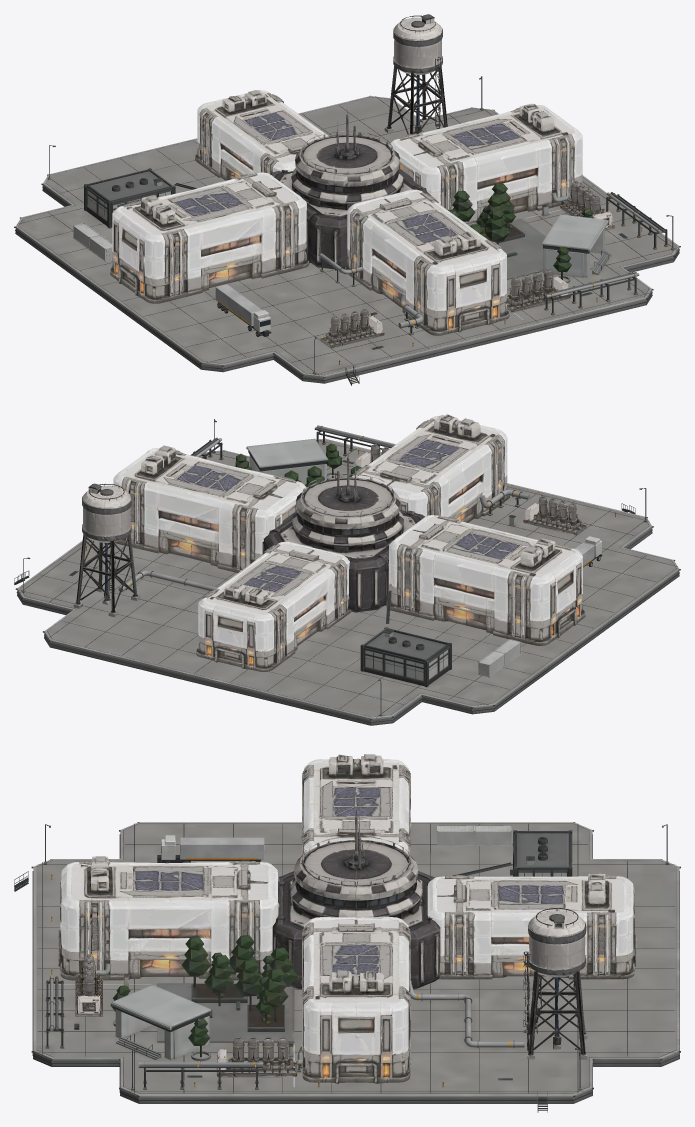
Rendered from infrastructure.lite.glb.
3 renders of one model, top to bottom at view 1: azimuth 30°, elevation 25°; view 2: azimuth 150°, elevation 25°; view 3: azimuth 270°, elevation 25°, orthographic. The views are drawn at different scales.
Visible parts, largest first — view 1: parts_colony-adminWing, hull, parts_colony-hubDrum, parts_colony-waterTower, parts_colony-vesselSkid, parts_yard-truck, parts_container; view 2: parts_colony-adminWing, hull, parts_colony-hubDrum, parts_colony-waterTower, parts_colony-vesselSkid, parts_container, parts_yard-truck; view 3: hull, parts_colony-adminWing, parts_colony-hubDrum, parts_colony-waterTower, parts_colony-vesselSkid, parts_yard-truck, parts_container.
Part boxes in pixels (bbox=[...]): parts_colony-adminWing: bbox=[110, 90, 582, 335]; hull: bbox=[14, 76, 680, 385]; parts_colony-hubDrum: bbox=[270, 108, 431, 269]; parts_colony-waterTower: bbox=[384, 14, 447, 134]; parts_colony-vesselSkid: bbox=[320, 180, 614, 348]; parts_yard-truck: bbox=[215, 284, 271, 336]; parts_container: bbox=[73, 223, 112, 261]; parts_colony-adminWing: bbox=[113, 414, 585, 671]; hull: bbox=[14, 419, 680, 725]; parts_colony-hubDrum: bbox=[262, 452, 424, 612]; parts_colony-waterTower: bbox=[73, 483, 140, 617]; parts_colony-vesselSkid: bbox=[355, 444, 586, 535]; parts_container: bbox=[478, 639, 521, 677]; parts_yard-truck: bbox=[575, 536, 602, 567]; hull: bbox=[14, 822, 680, 1112]; parts_colony-adminWing: bbox=[58, 754, 636, 1083]; parts_colony-hubDrum: bbox=[272, 809, 440, 989]; parts_colony-waterTower: bbox=[523, 908, 587, 1059]; parts_colony-vesselSkid: bbox=[75, 859, 297, 1077]; parts_yard-truck: bbox=[157, 835, 264, 863]; parts_container: bbox=[437, 825, 511, 845].
Size of the model in its own units: 107 by 28.36 by 107.
Materials: 9 (9 with a texture image).
